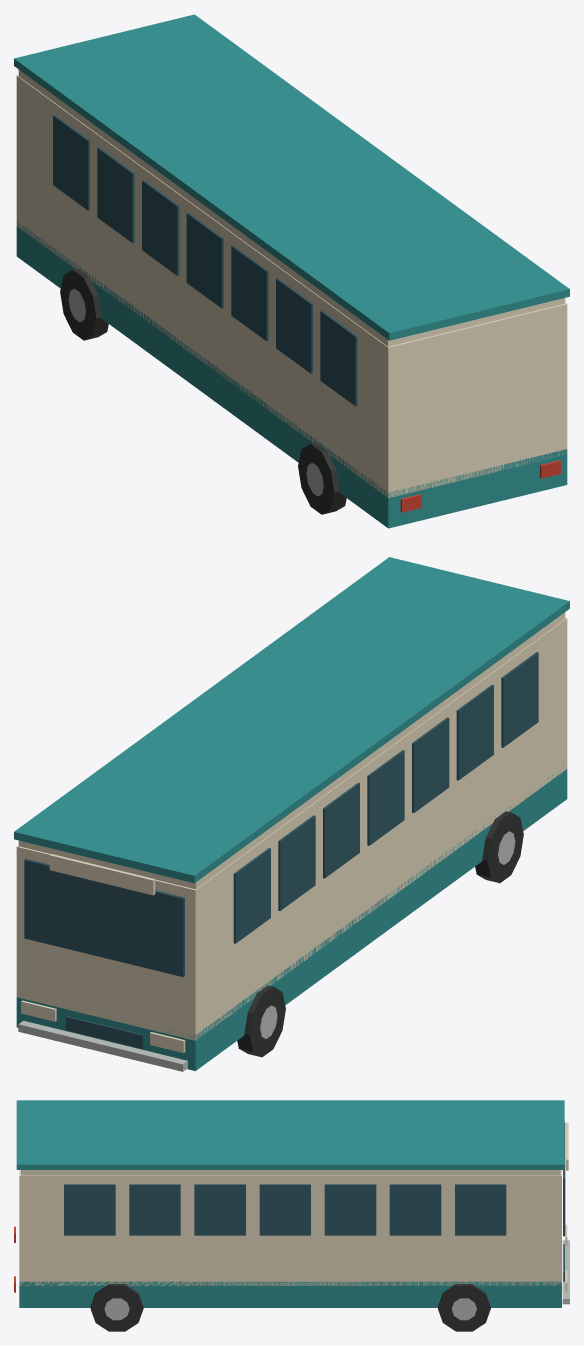
Rendered from bus.glb.
3 views of the same model, one above another, from view 1: azimuth 30°, elevation 25°; view 2: azimuth 150°, elevation 25°; view 3: azimuth 270°, elevation 25° (orthographic). The views are drawn at different scales.
Parts seen in each view (by area): view 1: BusModel traffic_teal.001, BusModel traffic_cream, BusModel traffic_glass, BusModel traffic_rubber, BusModel traffic_metal; view 2: BusModel traffic_teal.001, BusModel traffic_cream, BusModel traffic_glass, BusModel traffic_rubber, BusModel traffic_metal; view 3: BusModel traffic_teal.001, BusModel traffic_cream, BusModel traffic_glass, BusModel traffic_rubber, BusModel traffic_metal.
Part boxes in pixels (<box>): BusModel traffic_teal.001: <box>14,14,569,528</box>; BusModel traffic_cream: <box>16,70,567,497</box>; BusModel traffic_glass: <box>53,115,357,406</box>; BusModel traffic_rubber: <box>60,268,346,514</box>; BusModel traffic_metal: <box>68,288,323,496</box>; BusModel traffic_teal.001: <box>14,557,569,1070</box>; BusModel traffic_cream: <box>16,612,567,1052</box>; BusModel traffic_glass: <box>24,652,538,1048</box>; BusModel traffic_rubber: <box>237,811,523,1057</box>; BusModel traffic_metal: <box>18,831,515,1071</box>; BusModel traffic_teal.001: <box>16,1100,564,1307</box>; BusModel traffic_cream: <box>19,1122,568,1291</box>; BusModel traffic_glass: <box>64,1122,565,1281</box>; BusModel traffic_rubber: <box>90,1284,490,1331</box>; BusModel traffic_metal: <box>104,1240,569,1320</box>.
Bounding box in the file's own units: 2.68 × 3.03 × 9.22.
